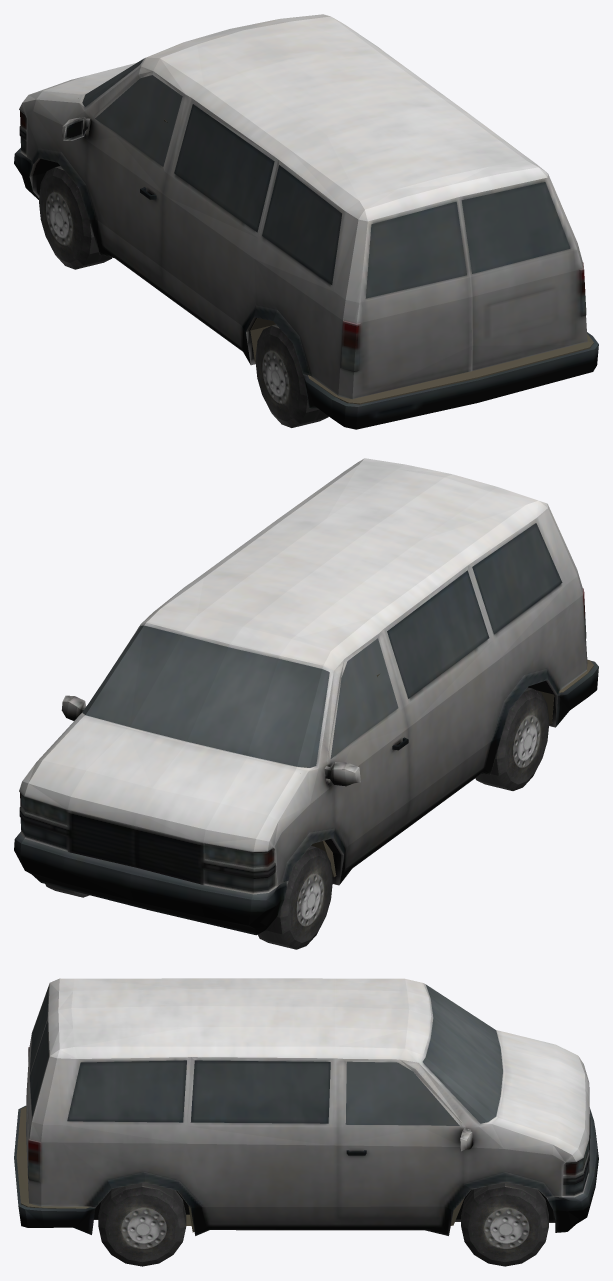
The model's file is 15_Pax_Van.DAE.
3 renders of one model, top to bottom at view 1: azimuth 30°, elevation 25°; view 2: azimuth 150°, elevation 25°; view 3: azimuth 270°, elevation 25°, orthographic. The views are drawn at different scales.
Visible parts, largest first — view 1: hull, a_winl, a_win_b, wheels_spin_steer001, wheels_spin001, dash; view 2: hull, a_win_frnt, a_winl, wheels_spin_steer001, wheels_spin001, dash; view 3: hull, a_win_r, a_win_frnt, wheels_spin_steer002, wheels_spin002, a_win_b, dash.
Boxes of the visible parts, x1=… form: hull: x1=14, y1=14, x2=598, y2=429; a_winl: x1=95, y1=75, x2=341, y2=284; a_win_b: x1=365, y1=182, x2=570, y2=298; wheels_spin_steer001: x1=39, y1=166, x2=111, y2=269; wheels_spin001: x1=255, y1=324, x2=328, y2=427; dash: x1=78, y1=98, x2=593, y2=404; hull: x1=14, y1=458, x2=598, y2=935; a_win_frnt: x1=82, y1=625, x2=329, y2=767; a_winl: x1=330, y1=523, x2=562, y2=758; wheels_spin_steer001: x1=258, y1=846, x2=332, y2=949; wheels_spin001: x1=475, y1=687, x2=549, y2=790; dash: x1=311, y1=659, x2=593, y2=877; hull: x1=14, y1=978, x2=598, y2=1235; a_win_r: x1=67, y1=1060, x2=459, y2=1125; a_win_frnt: x1=422, y1=984, x2=502, y2=1123; wheels_spin_steer002: x1=461, y1=1182, x2=548, y2=1266; wheels_spin002: x1=98, y1=1182, x2=186, y2=1266; a_win_b: x1=30, y1=987, x2=48, y2=1115; dash: x1=16, y1=1106, x2=464, y2=1232.
Size of the model in its own units: 2.19 by 1.78 by 4.46.
Materials: 3 (3 with a texture image).
